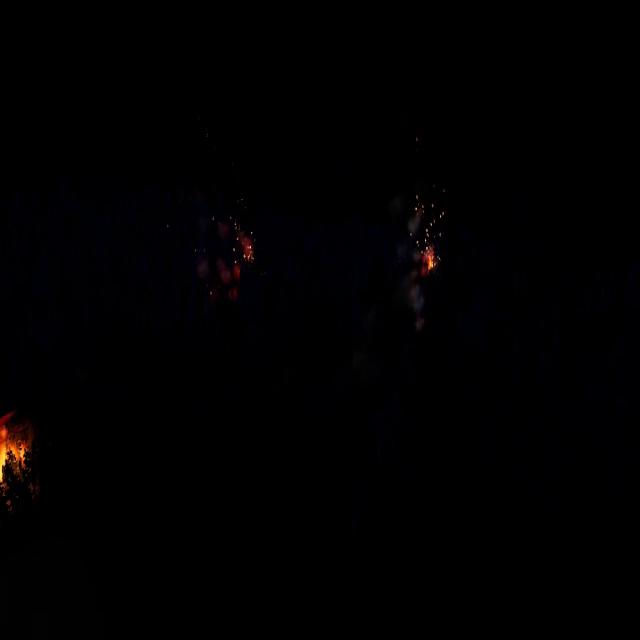fire: (0, 428, 26, 494), (237, 231, 254, 270), (422, 244, 437, 275)
smoke: (391, 194, 428, 327), (196, 215, 244, 302)
